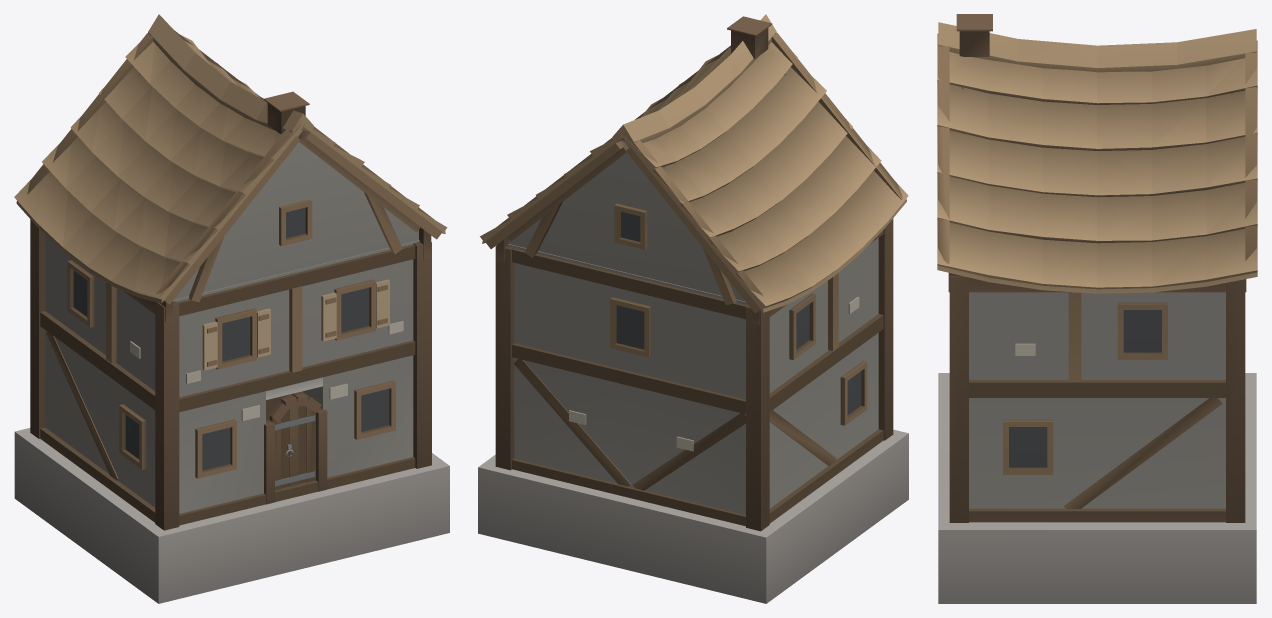
Rendered from tavern.glb.
3 views of the same model, side by side, from view 1: azimuth 30°, elevation 25°; view 2: azimuth 150°, elevation 25°; view 3: azimuth 270°, elevation 25° (orthographic). The views are drawn at different scales.
Visible parts, largest first — view 1: tavern; view 2: tavern; view 3: tavern.
Boxes of the visible parts, x1,y1,x2,y2 form: tavern: (14,14,449,603); tavern: (478,14,908,603); tavern: (937,14,1257,603).
Bounding box in the file's own units: 6.98 × 10.4 × 6.
